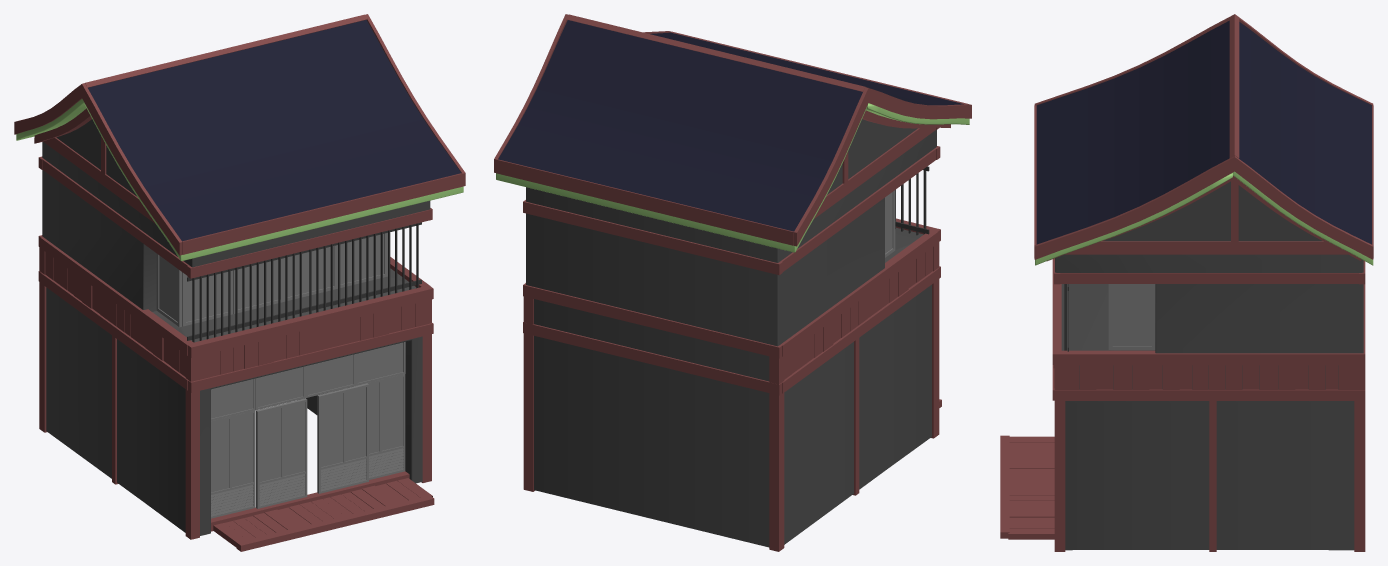
File: SM_building_traditional_01.fbx
The picture shows the model from 3 angles, left to right: view 1: azimuth 30°, elevation 25°; view 2: azimuth 150°, elevation 25°; view 3: azimuth 270°, elevation 25°; orthographic projection. The views are drawn at different scales.
Parts seen in each view (by area): view 1: Object1284833; view 2: Object1284833; view 3: Object1284833.
Part boxes in pixels (x1,y1,x2,y2): Object1284833: (14,14,465,551); Object1284833: (494,14,971,551); Object1284833: (1000,14,1373,551).
Bounding box in the file's own units: 271 × 360 × 299.
